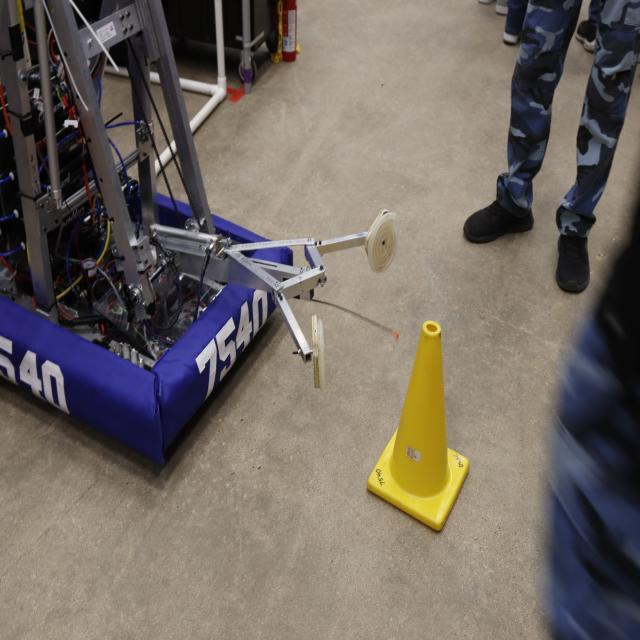robot: (0, 0, 396, 469)
